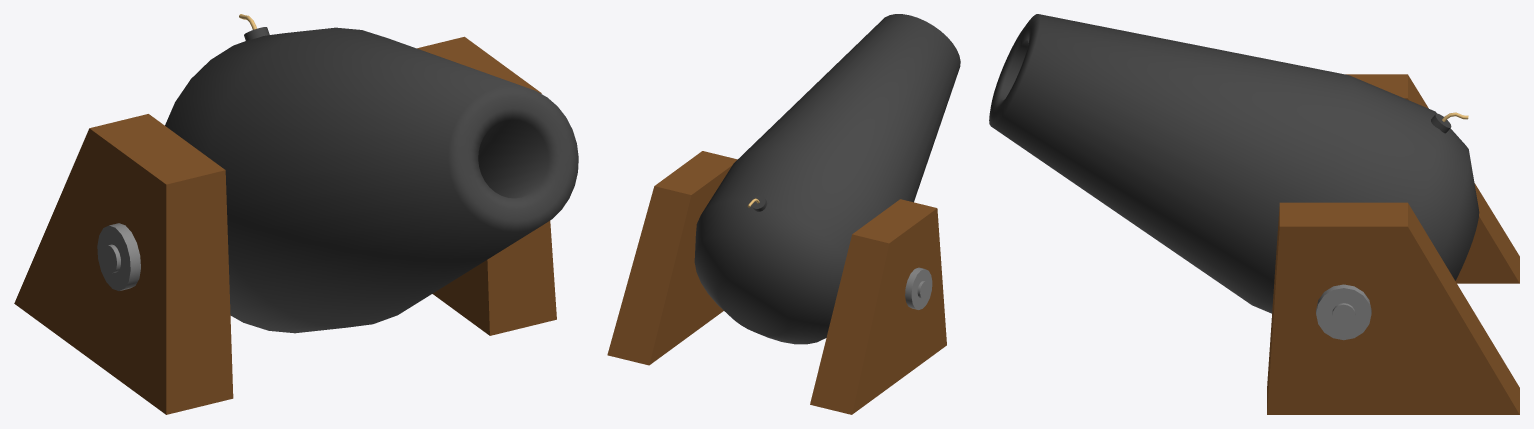
File: cannon.fbx
3 renders of one model, left to right at view 1: azimuth 30°, elevation 25°; view 2: azimuth 150°, elevation 25°; view 3: azimuth 270°, elevation 25°, orthographic. The views are drawn at different scales.
Visible parts, largest first — view 1: Barrel, Cannon Frame; view 2: Barrel, Cannon Frame; view 3: Barrel, Cannon Frame.
Boxes of the visible parts, x1,y1,x2,y2 form: Barrel: (165,14,578,333); Cannon Frame: (14,36,556,414); Barrel: (694,14,960,344); Cannon Frame: (607,151,946,414); Barrel: (989,14,1479,313); Cannon Frame: (1267,74,1519,414).
Size of the model in its own units: 136 by 119 by 182.
